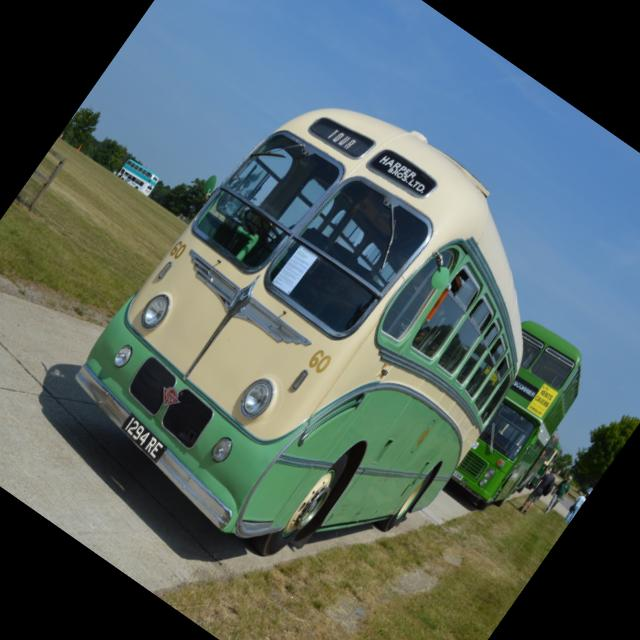bus: (47, 42, 605, 618), (418, 312, 602, 520), (515, 434, 560, 493), (114, 152, 160, 196), (526, 443, 564, 491)
